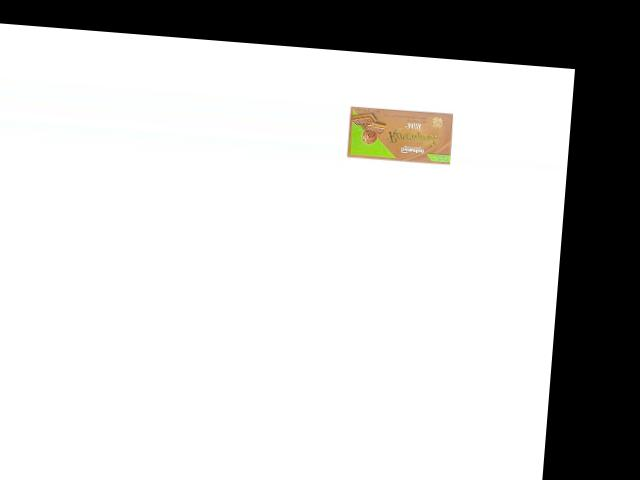chocolate: (344, 100, 458, 167)
